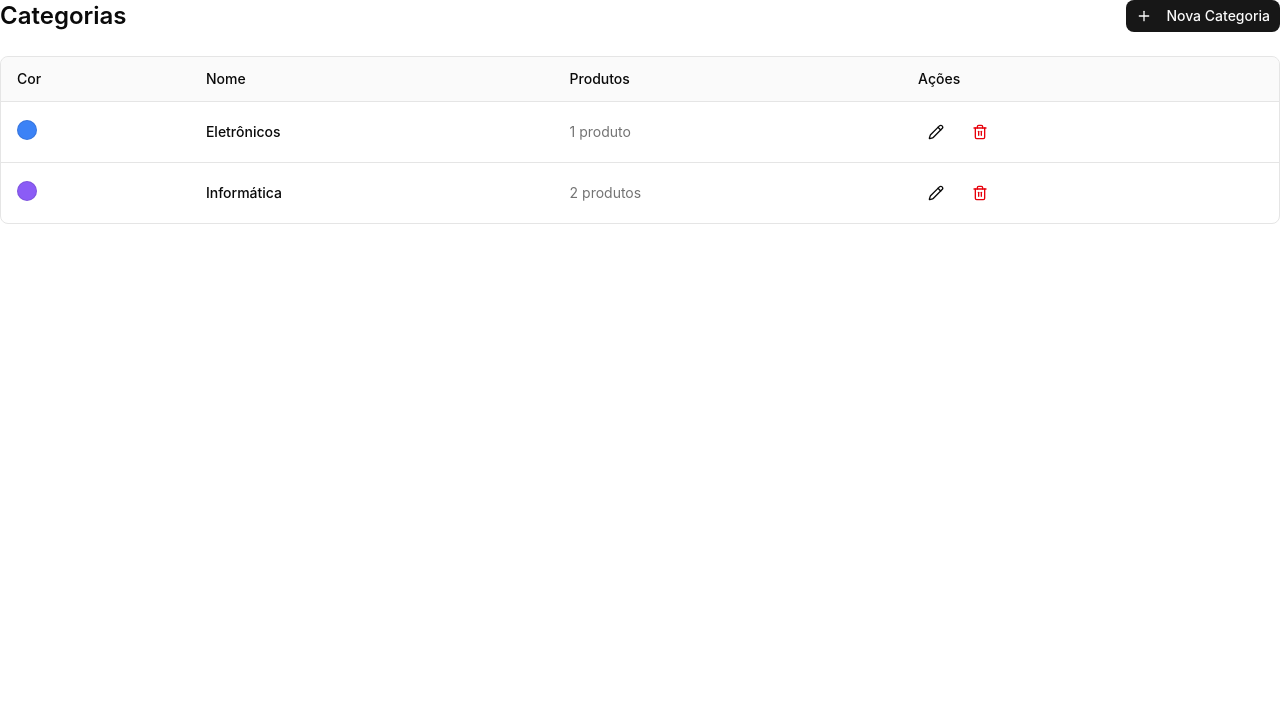
Test: CategoriesPage › atualiza a categoria na tabela após edição
Check: the text "Eletrônicos" is shown, box [190,102,554,162]
Click the button named "editar eletrônicos" at point(936, 132), box [918,114,954,150]
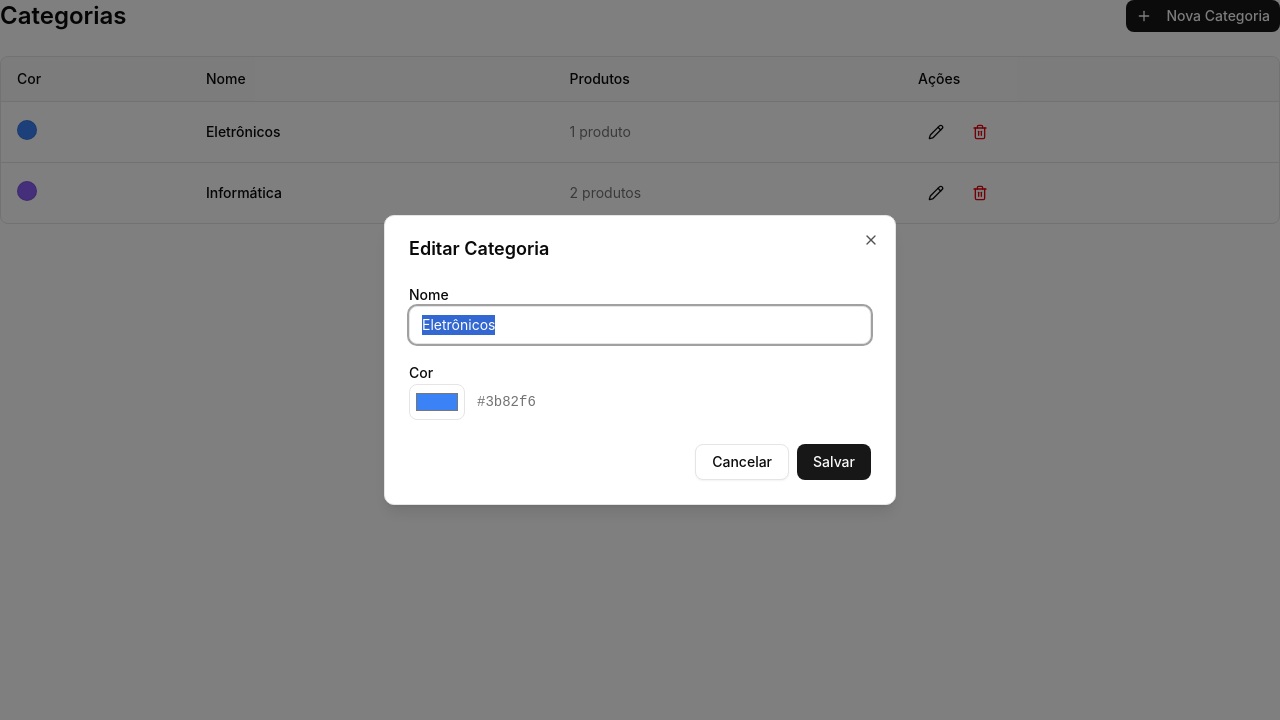
Replace the text in the field with test id "field-cat-name" with "Eletrônicos Pro" at point(640, 325), box [409,306,871,344]
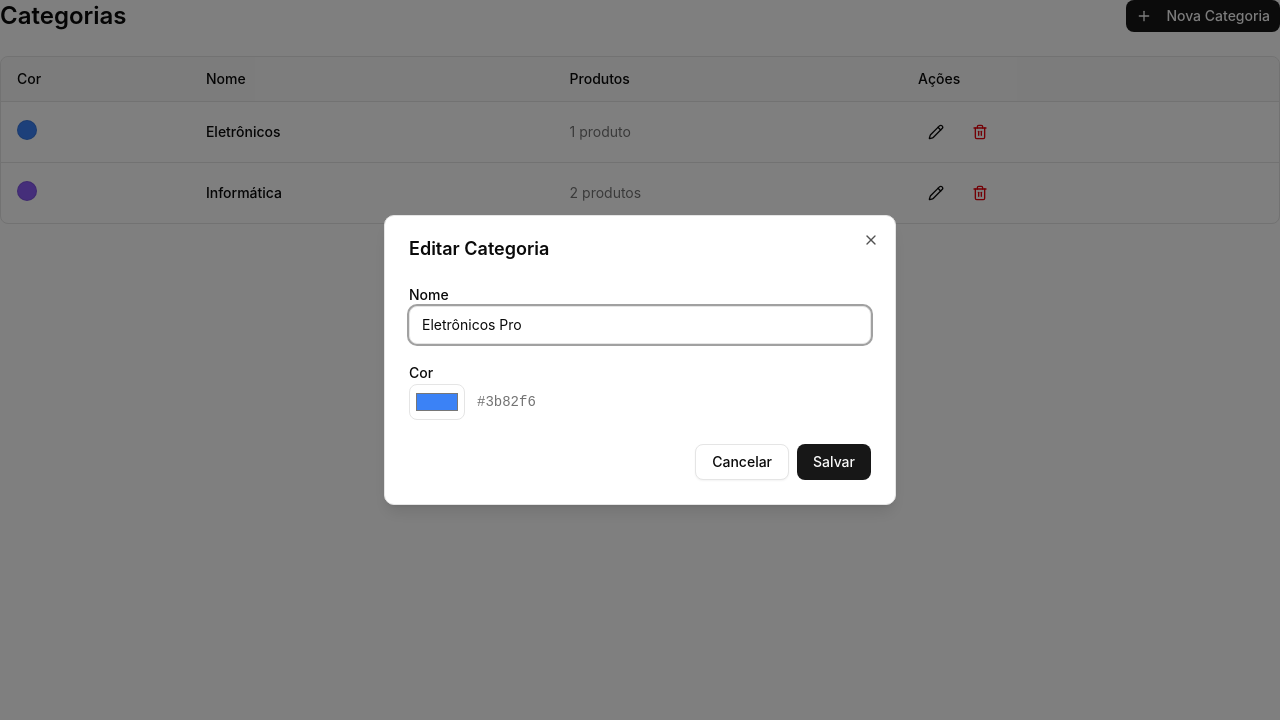
Click the button "Salvar" at point(834, 462), box [797,444,871,480]
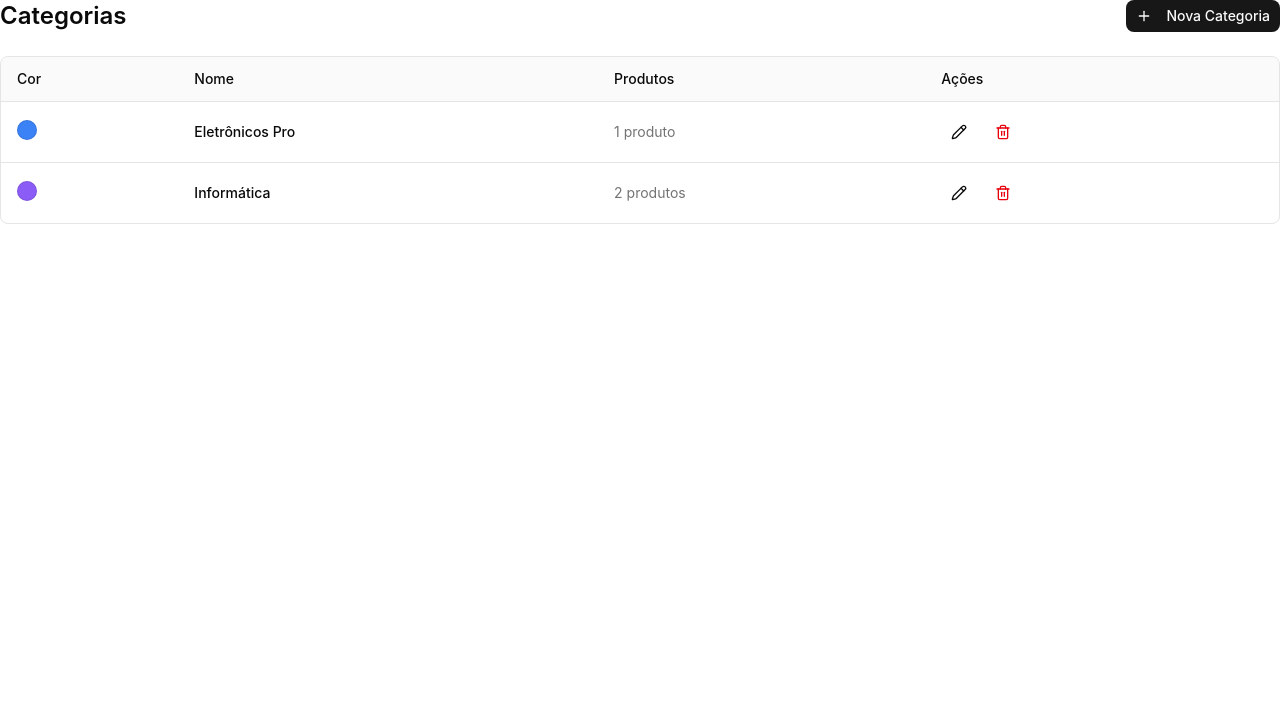
Check: the text "Eletrônicos Pro" is shown, box [178,102,598,162]
